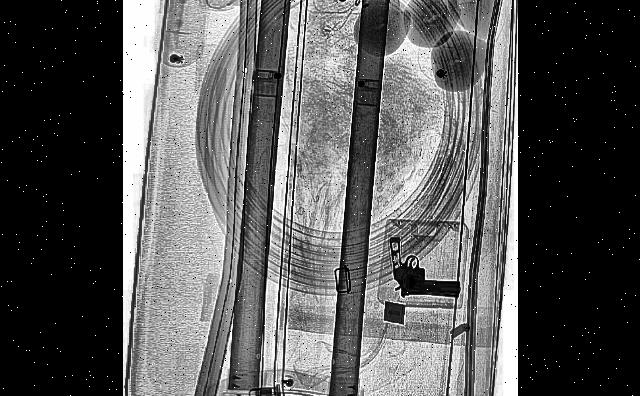Gun: (387, 235, 459, 295)
